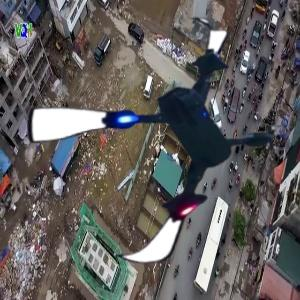drone: (29, 18, 291, 280)
